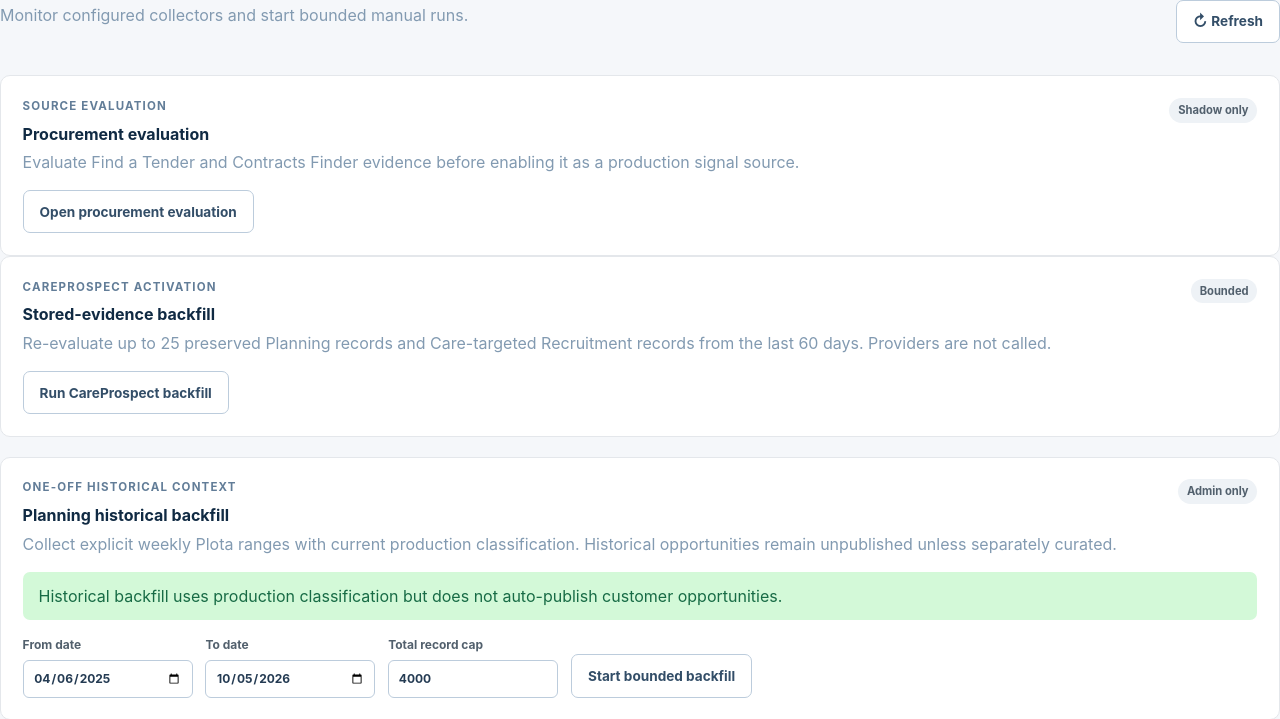
Test: admin frontend › starts a bounded weekly historical Planning backfill
The width and height of the screenshot is (1280, 719).
(page scrolled)
Check: the heading "Planning historical backfill" is shown, box [23, 505, 229, 525]
Check: the text "does not auto-publish customer opportunities" is shown, box [39, 586, 782, 606]
Click the button "Start bounded backfill" at (662, 676), box [571, 654, 752, 698]
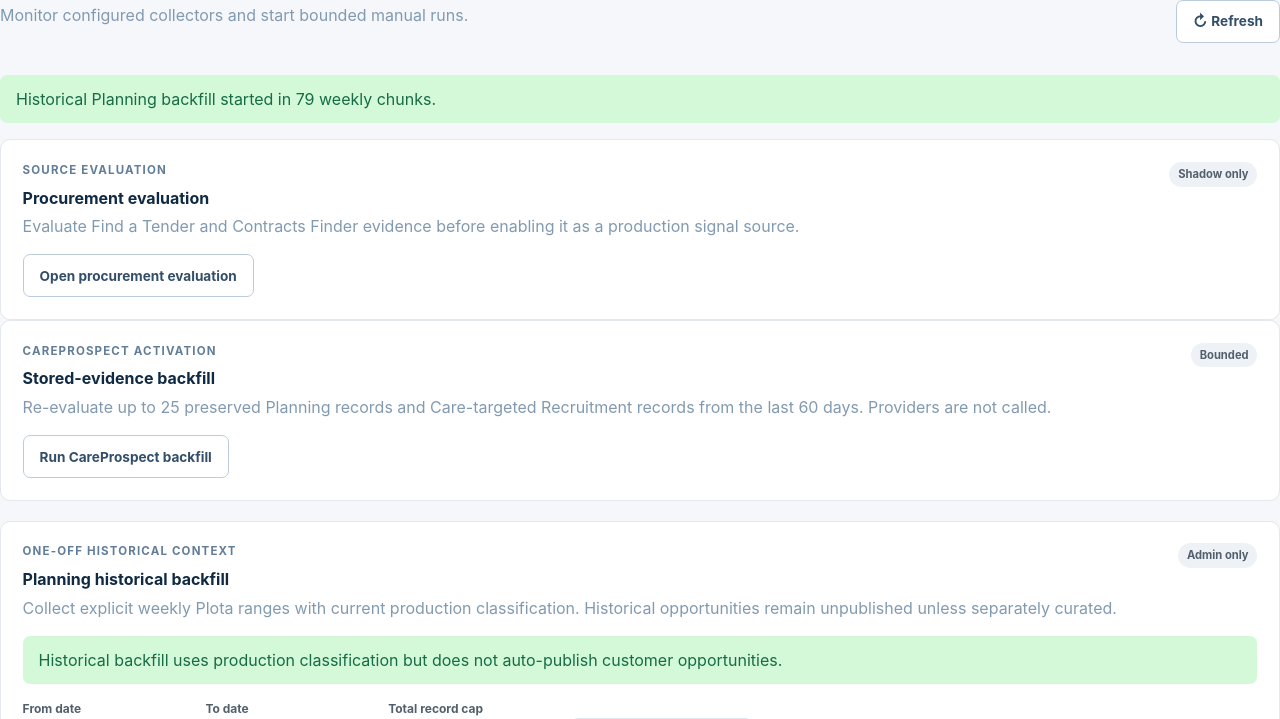
Check: the text "Historical Planning backfill started in 79 weekly chunks." is shown, box [0, 75, 1279, 123]
